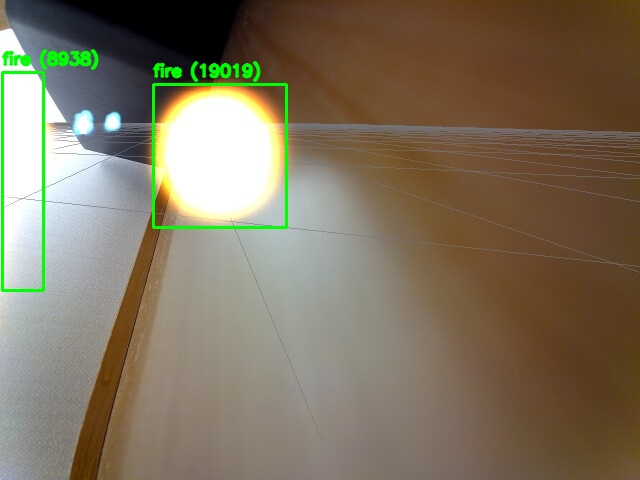fire: (153, 84, 286, 227), (2, 72, 43, 290)
